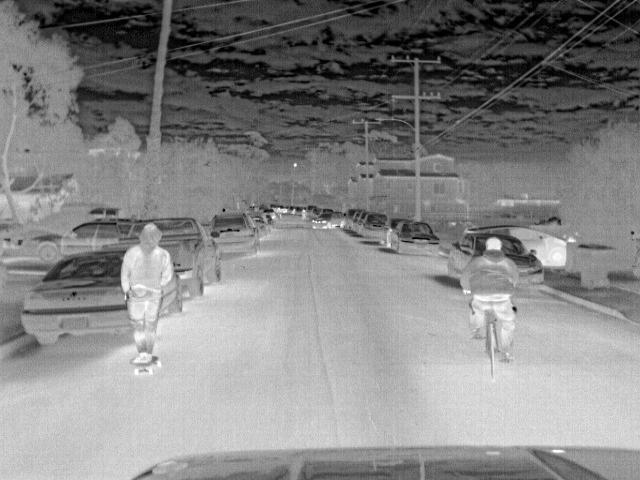car: (20, 246, 131, 346), (155, 216, 223, 292), (459, 223, 567, 267), (445, 234, 543, 282), (27, 218, 130, 262), (207, 211, 260, 255), (391, 222, 443, 254), (360, 212, 394, 239), (313, 210, 347, 229), (342, 207, 365, 230)
person: (115, 221, 177, 366), (464, 234, 516, 366)
